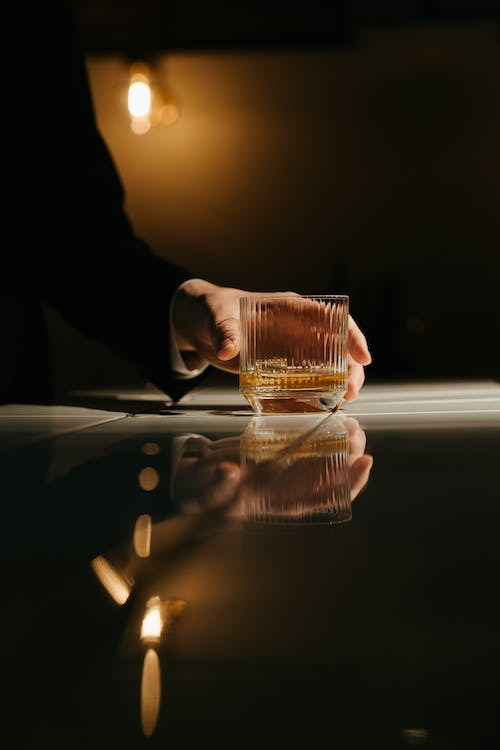alcohol: (237, 292, 350, 415)
